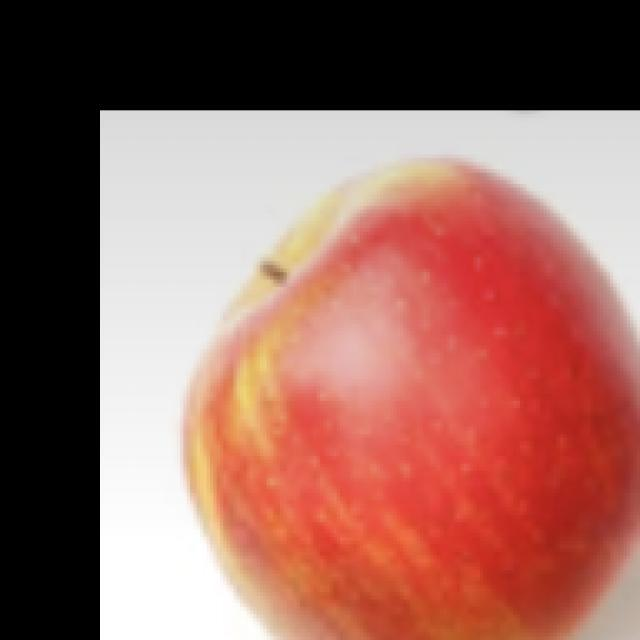Fresh Apple: (186, 150, 640, 640)
